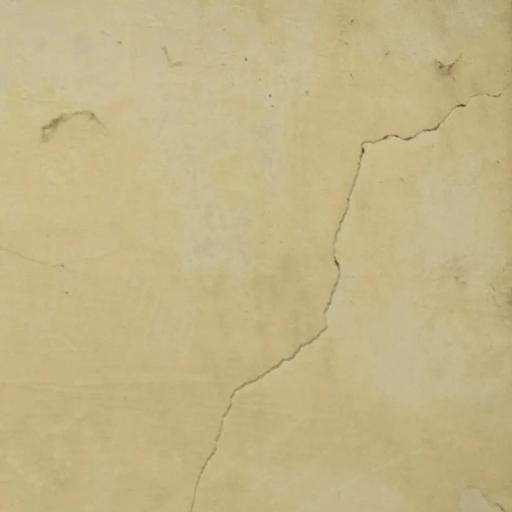minor_crack: (185, 80, 512, 512)
